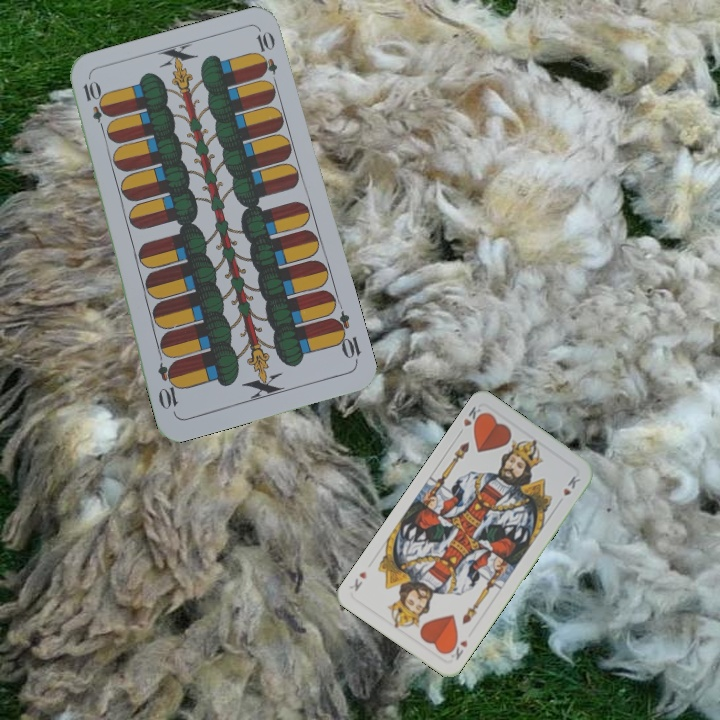E10: (327, 308, 364, 366), (78, 77, 110, 136)
HK: (454, 402, 487, 438), (444, 635, 470, 663)
